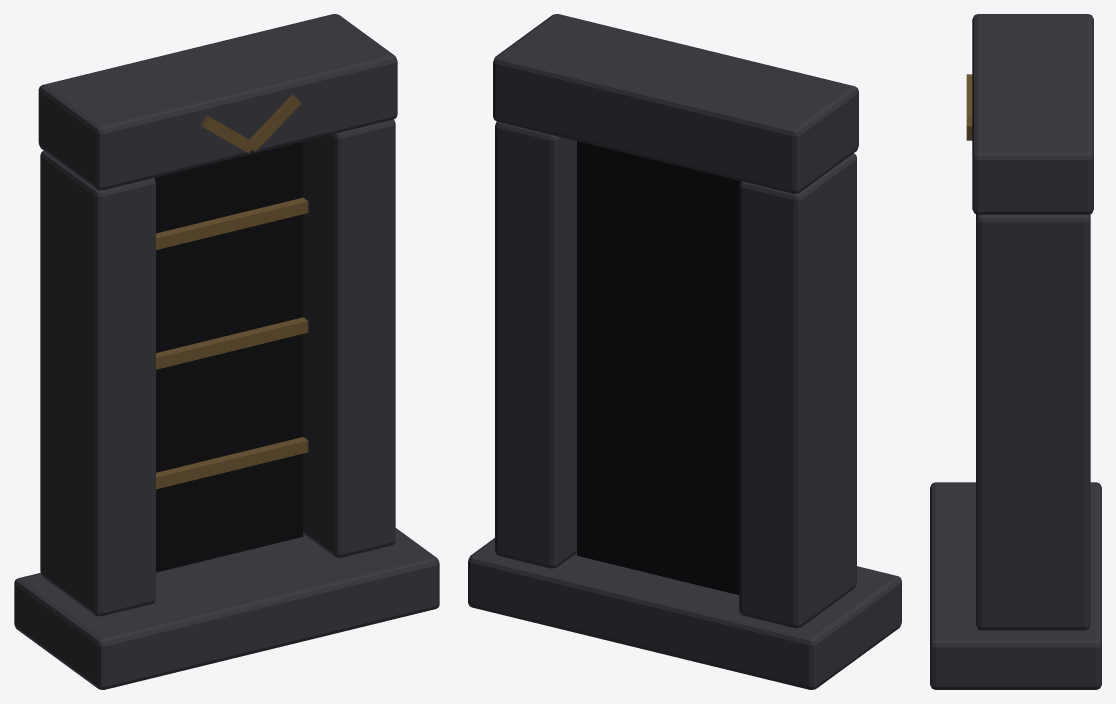
Rendered from SM_Window_DwarvenSlit_08.fbx.
3 renders of one model, left to right at view 1: azimuth 30°, elevation 25°; view 2: azimuth 150°, elevation 25°; view 3: azimuth 270°, elevation 25°, orthographic. The views are drawn at different scales.
Parts seen in each view (by area): view 1: SM_Window_DwarvenSlit_08_Glass, SM_Window_DwarvenSlit_08_Frame, SM_Window_DwarvenSlit_08_JambR, SM_Window_DwarvenSlit_08_Lintel, SM_Window_DwarvenSlit_08_Sill, SM_Window_DwarvenSlit_08_GrilleBar3, SM_Window_DwarvenSlit_08_GrilleBar1, SM_Window_DwarvenSlit_08_GrilleBar2, SM_Window_DwarvenSlit_08_ChevronTop_R, SM_Window_DwarvenSlit_08_ChevronTop_L; view 2: SM_Window_DwarvenSlit_08_Glass, SM_Window_DwarvenSlit_08_Frame, SM_Window_DwarvenSlit_08_Lintel, SM_Window_DwarvenSlit_08_JambR, SM_Window_DwarvenSlit_08_Sill; view 3: SM_Window_DwarvenSlit_08_JambR, SM_Window_DwarvenSlit_08_Lintel, SM_Window_DwarvenSlit_08_Sill, SM_Window_DwarvenSlit_08_ChevronTop_L.
Boxes of the visible parts, x1,y1,x2,y2 form: SM_Window_DwarvenSlit_08_Glass: (154,141,303,572); SM_Window_DwarvenSlit_08_Frame: (40,150,155,616); SM_Window_DwarvenSlit_08_JambR: (303,119,395,557); SM_Window_DwarvenSlit_08_Lintel: (38,14,397,190); SM_Window_DwarvenSlit_08_Sill: (14,528,439,689); SM_Window_DwarvenSlit_08_GrilleBar3: (156,197,308,249); SM_Window_DwarvenSlit_08_GrilleBar1: (156,437,308,489); SM_Window_DwarvenSlit_08_GrilleBar2: (156,317,308,369); SM_Window_DwarvenSlit_08_ChevronTop_R: (249,94,300,151); SM_Window_DwarvenSlit_08_ChevronTop_L: (200,115,255,153); SM_Window_DwarvenSlit_08_Glass: (577,141,740,594); SM_Window_DwarvenSlit_08_Frame: (739,153,856,628); SM_Window_DwarvenSlit_08_Lintel: (493,14,858,193); SM_Window_DwarvenSlit_08_JambR: (495,121,576,568); SM_Window_DwarvenSlit_08_Sill: (468,538,901,689); SM_Window_DwarvenSlit_08_JambR: (976,214,1090,630); SM_Window_DwarvenSlit_08_Lintel: (972,14,1093,214); SM_Window_DwarvenSlit_08_Sill: (930,482,1101,689); SM_Window_DwarvenSlit_08_ChevronTop_L: (966,74,972,114).
Size of the model in its own units: 0.67 by 1.02 by 0.3.
